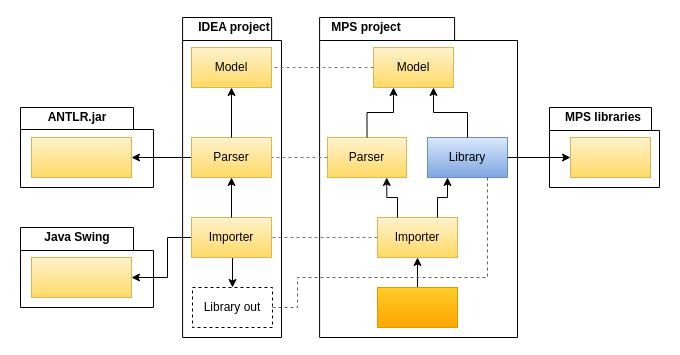
This 680x355 diagram has some shape labels left out. Each missing label, with the box of its shape:
ANTLR parser: (30, 136, 132, 178)
Import Form: (30, 256, 132, 298)
Open API: (570, 136, 650, 178)
Plugin: (376, 286, 458, 328)
